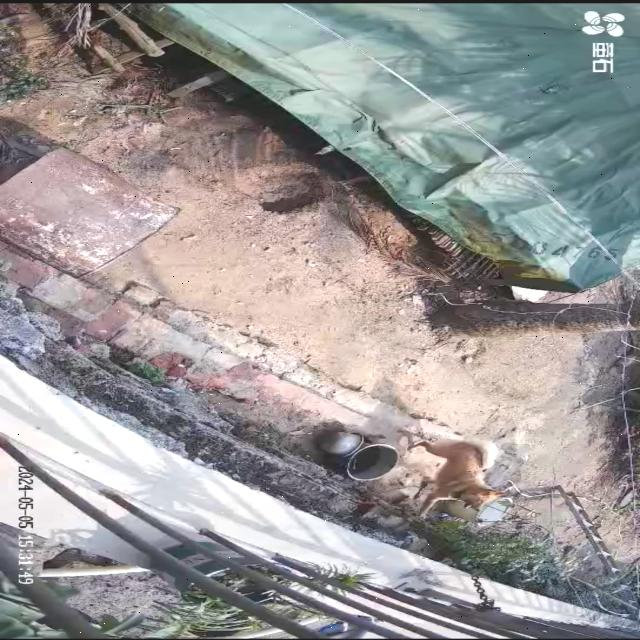dog: (407, 437, 509, 518)
